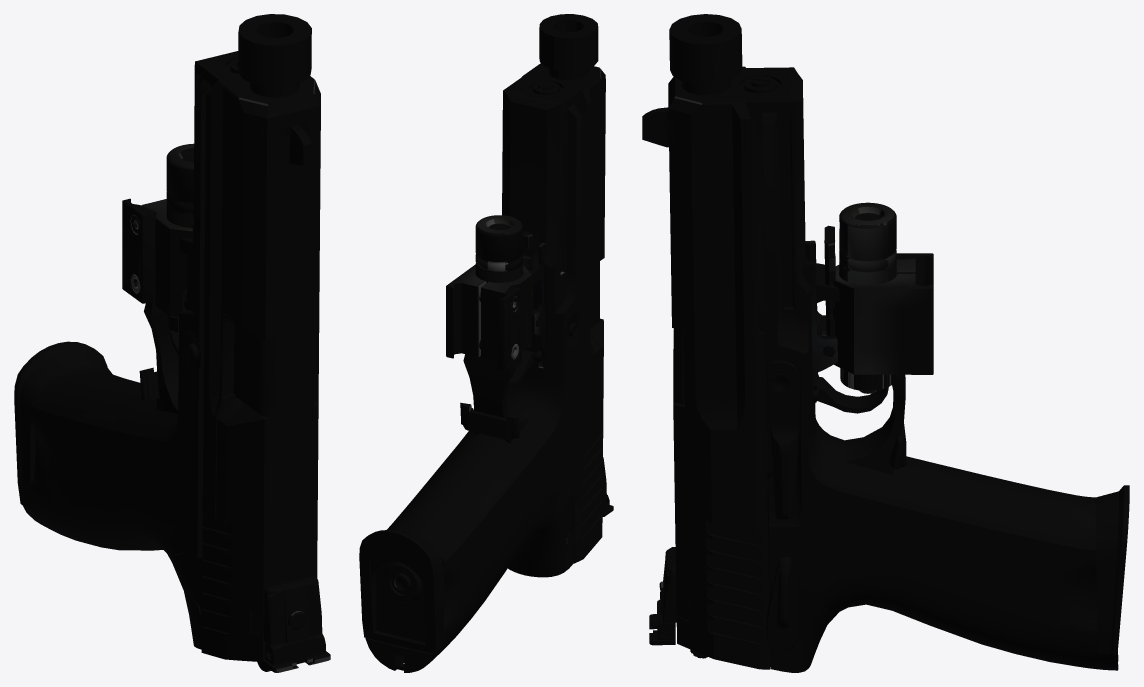
Rendered from HK_USP45__Adapter_USP_Rail__Light_Pistol.fbx.
The picture shows the model from 3 angles, left to right: view 1: azimuth 30°, elevation 25°; view 2: azimuth 150°, elevation 25°; view 3: azimuth 270°, elevation 25°; orthographic projection. The views are drawn at different scales.
Parts seen in each view (by area): view 1: asset_HK_USP45.001; view 2: asset_HK_USP45.001; view 3: asset_HK_USP45.001.
Part boxes in pixels (bbox=[...]): asset_HK_USP45.001: bbox=[14, 14, 330, 672]; asset_HK_USP45.001: bbox=[359, 14, 613, 672]; asset_HK_USP45.001: bbox=[642, 14, 1129, 672].
Bounding box in the file's own units: 0.0228 × 0.135 × 0.0938.
